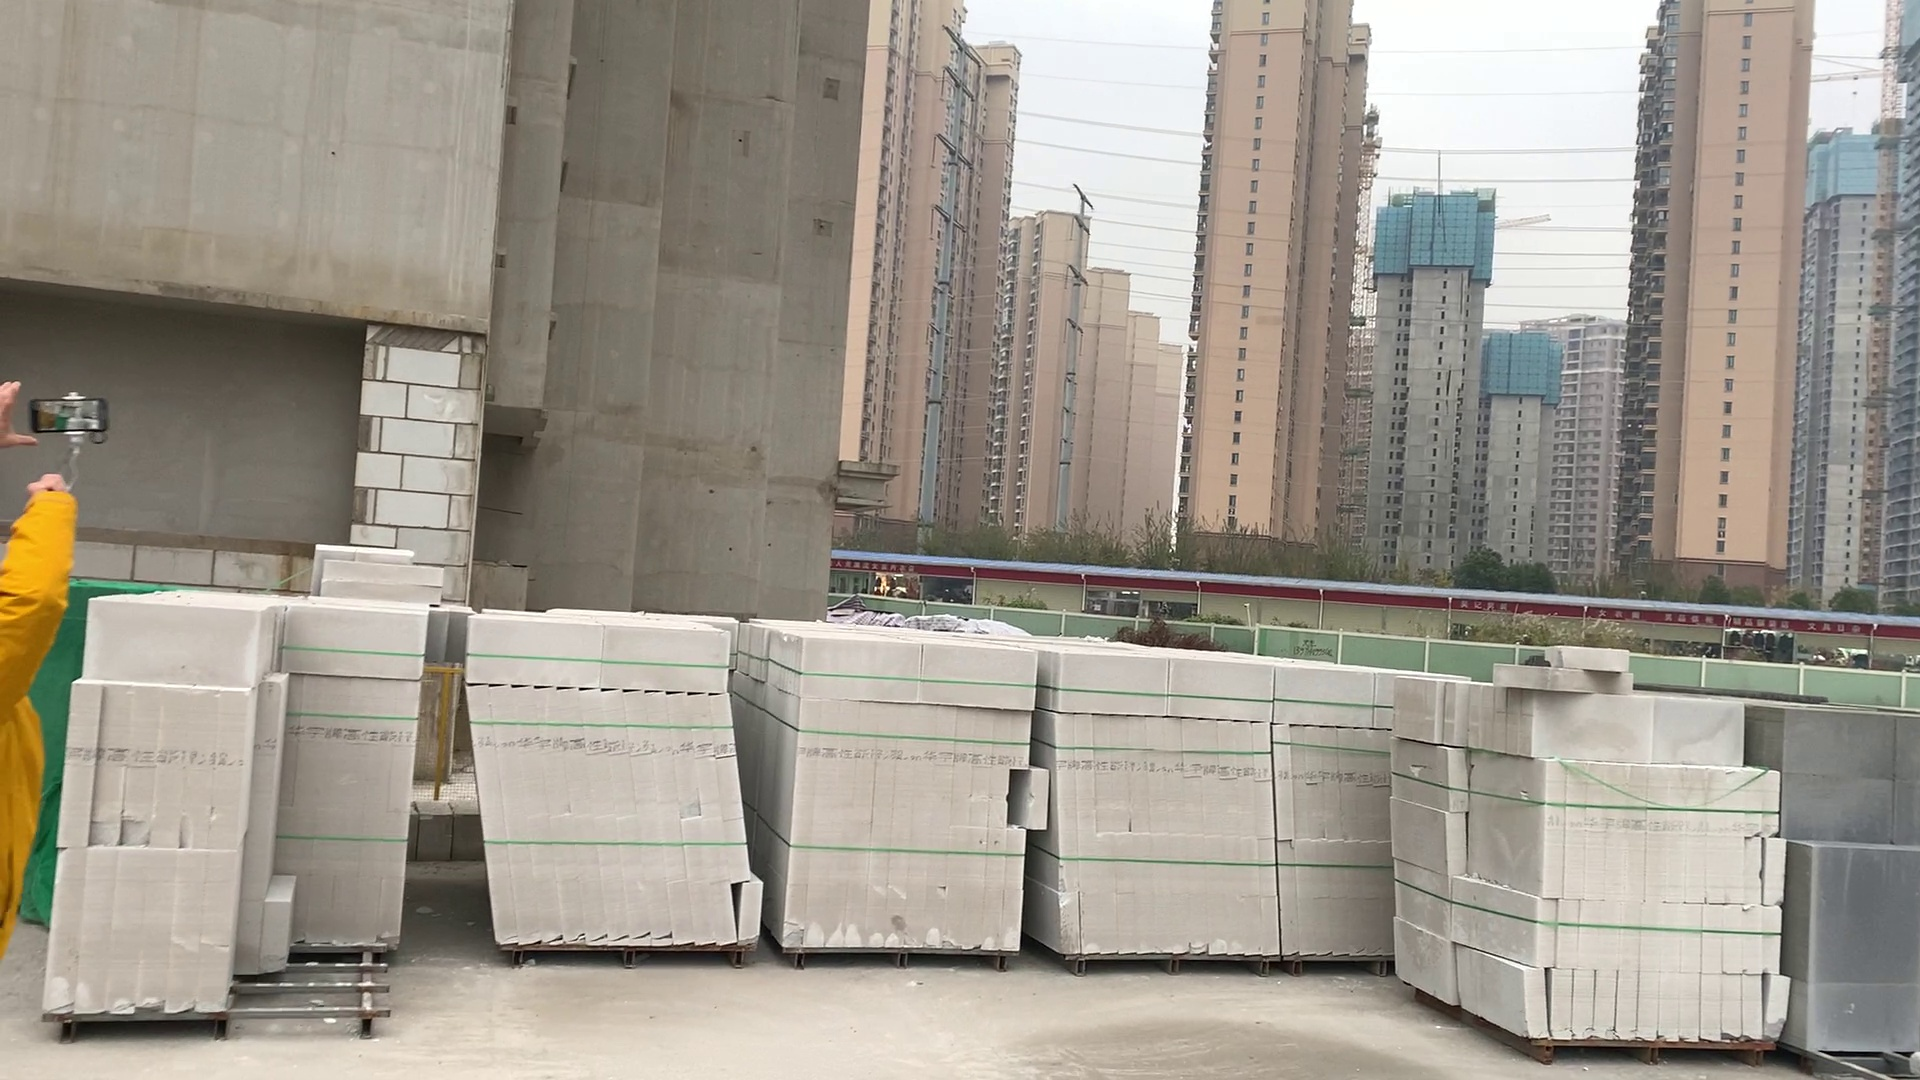brickwork: (47, 587, 423, 1022), (1396, 669, 1792, 1048), (456, 618, 764, 964), (766, 645, 1040, 956), (1040, 649, 1283, 968), (1780, 704, 1912, 1058), (1270, 658, 1396, 964)
